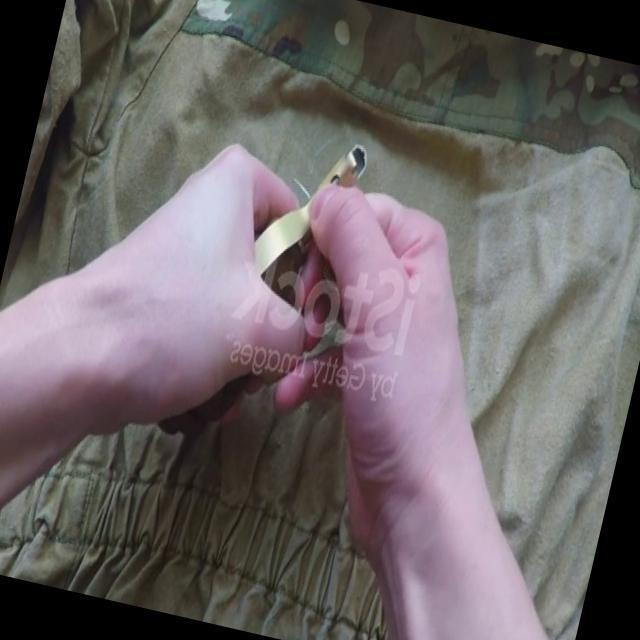grenade: (152, 112, 368, 462)
